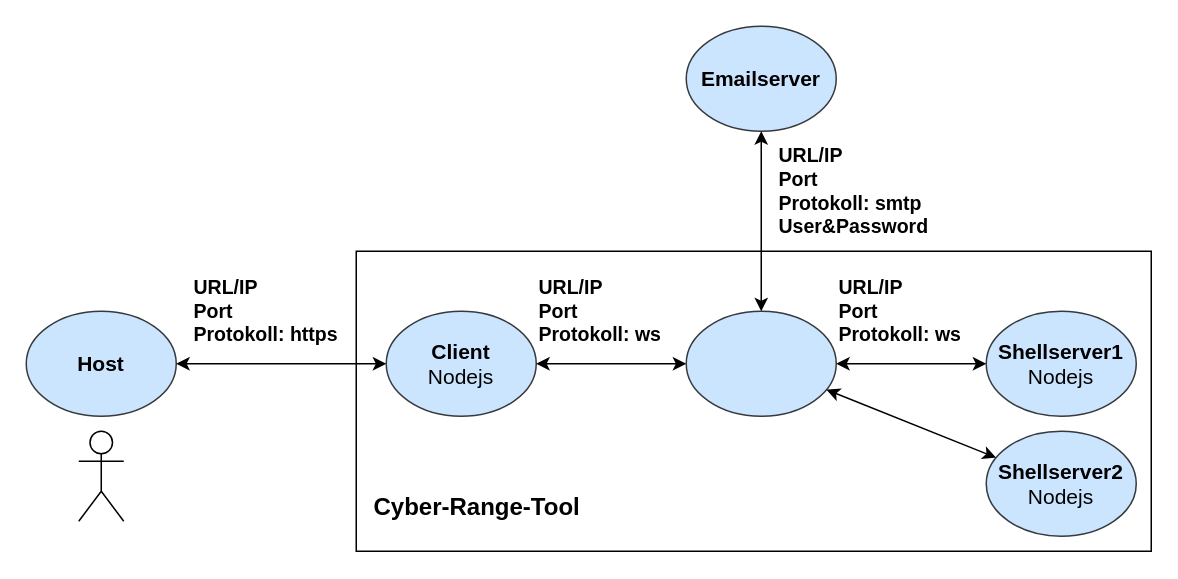
The diagram is 1178 pixels wide and 579 high, and some of its shapes have lost their labels. Each missing label, with the centre of its shape:
Server Nodejs: the point at 760,363
Trainer: the point at 100,475
